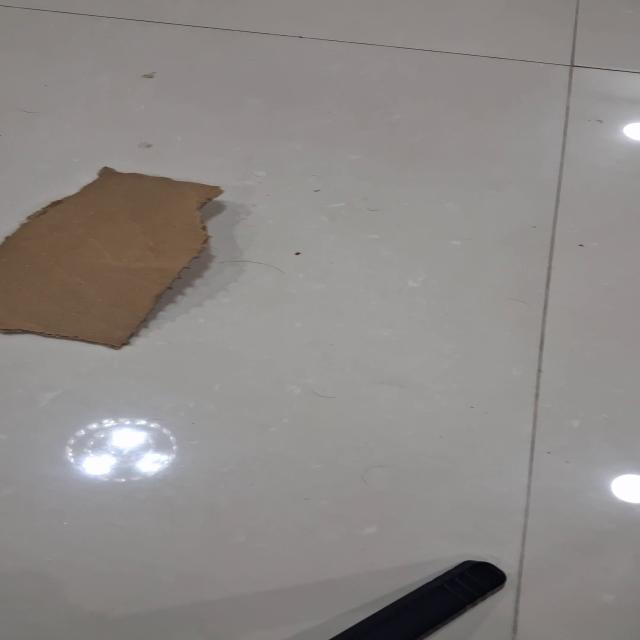paper: (1, 165, 224, 350)
